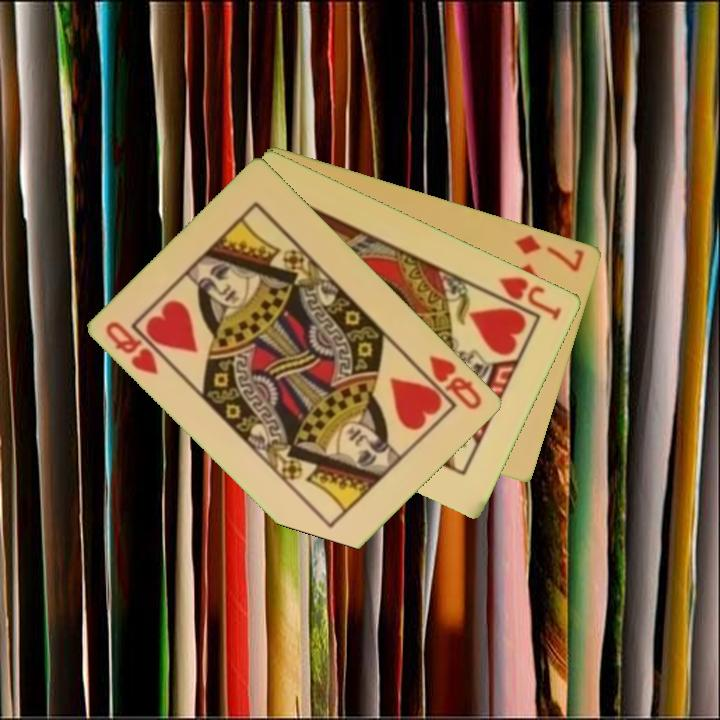7d: (512, 230, 588, 274)
Jh: (495, 272, 565, 323)
Qh: (426, 352, 485, 413), (103, 317, 162, 378)
